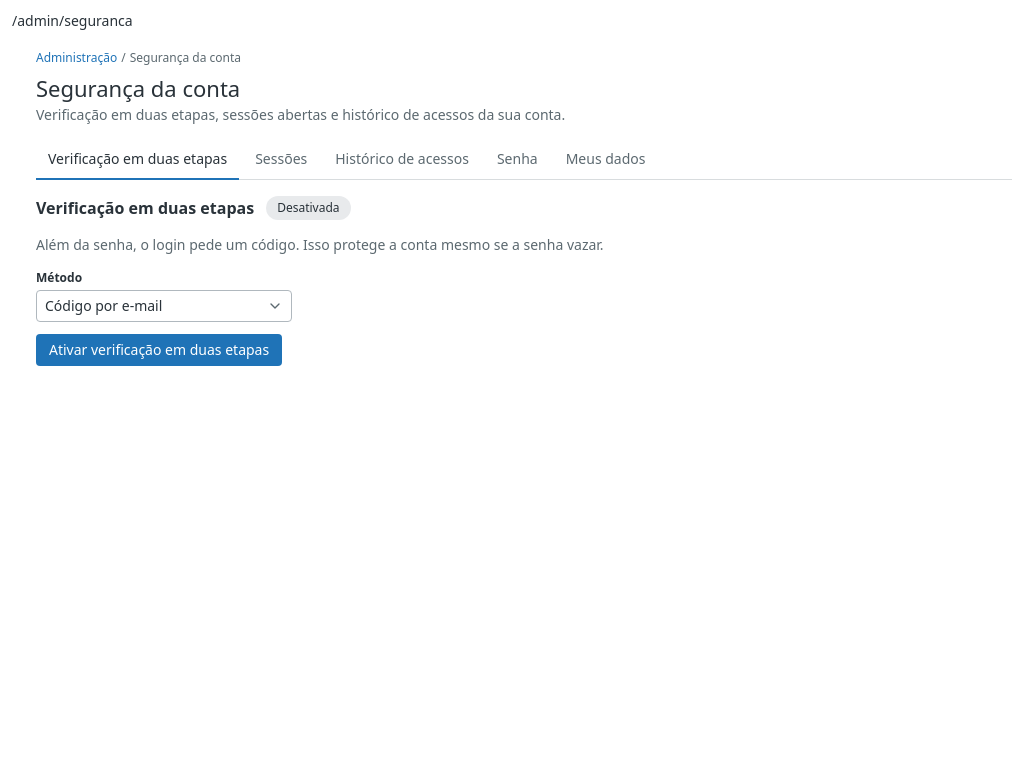
Scenario: Segurança: verificação em duas etapas (fetch simulado = mock em memória) › aplicativo autenticador mostra a chave de configuração
This screenshot has width=1036, height=780.
Click the dropdown named "Método de verificação" at x=164, y=306, box [36,290,292,322]
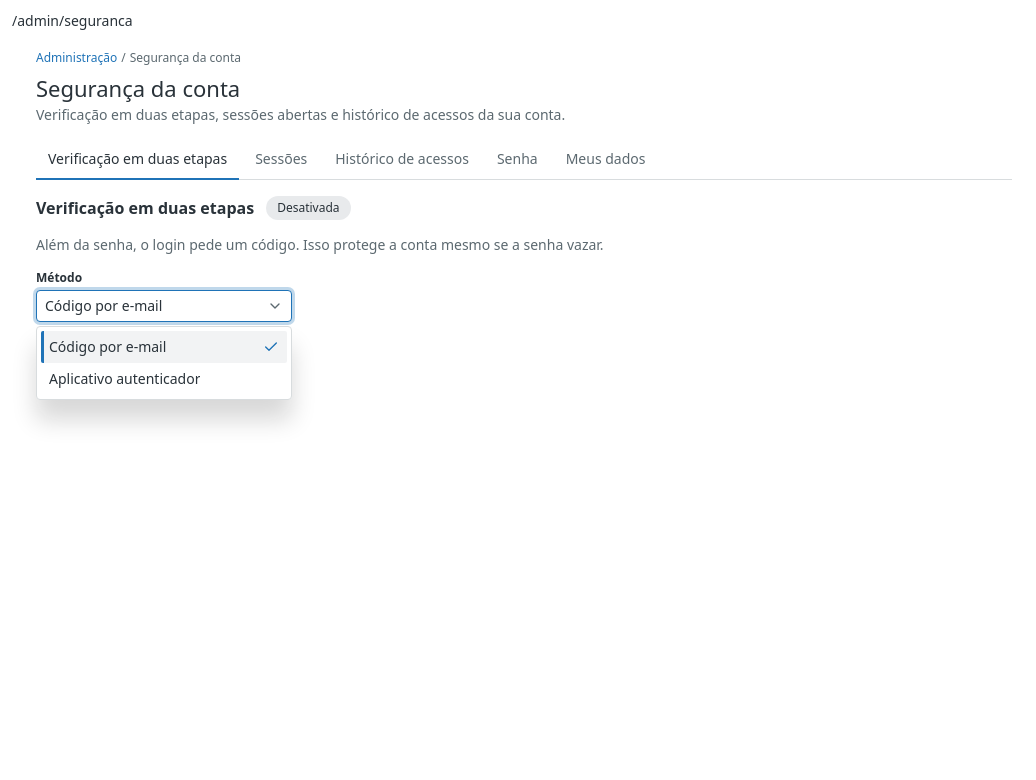
Click the option "Aplicativo autenticador" at x=125, y=378, box [49,369,200,388]
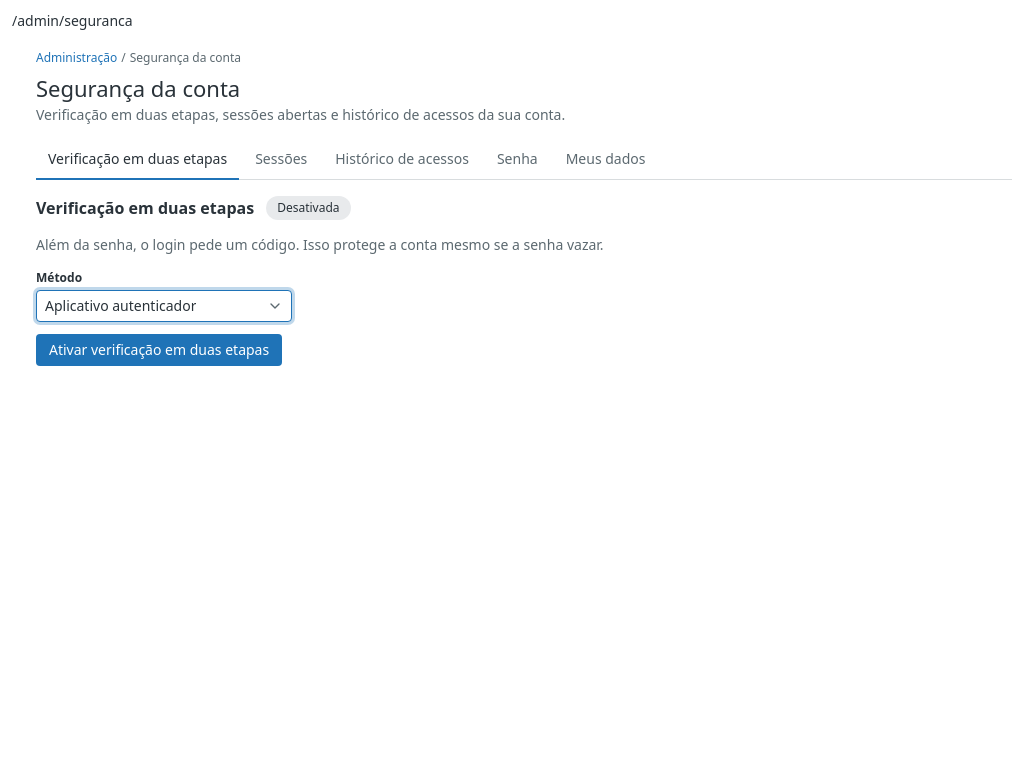
Click the button "Ativar verificação em duas etapas" at x=159, y=350, box [36,334,282,366]
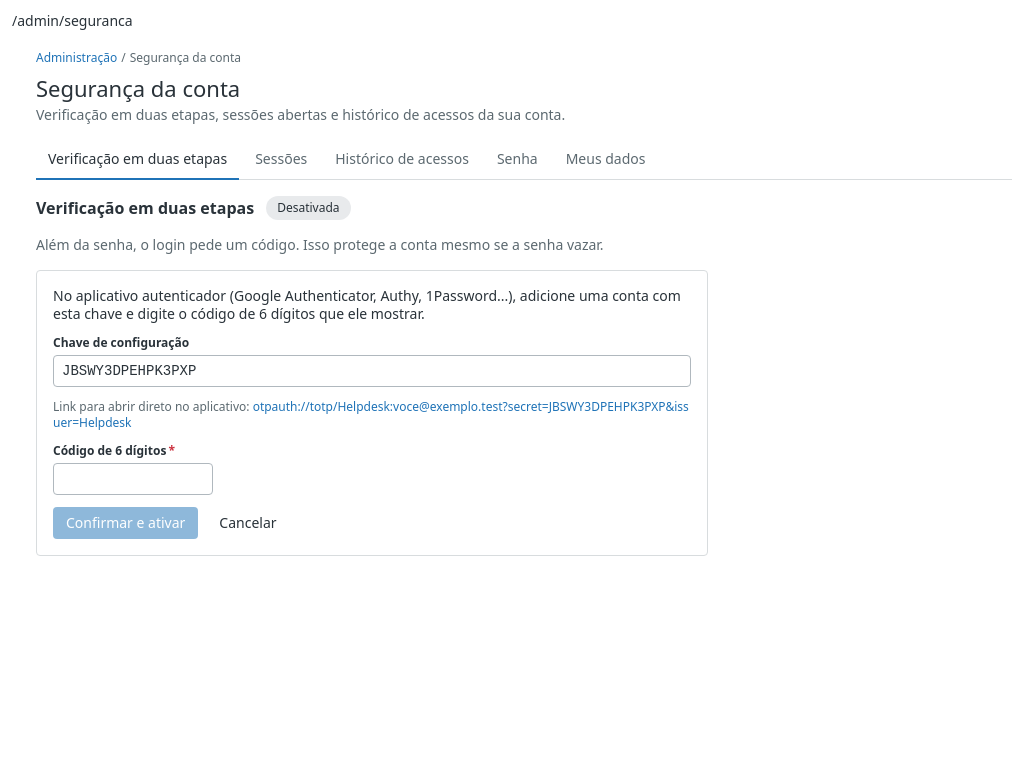
Check: the field named "Chave de configuração do aplicativo" holds "JBSWY3DPEHPK3PXP", box [54,356,690,386]
Click the button "Cancelar" at x=248, y=523, box [206,507,290,539]
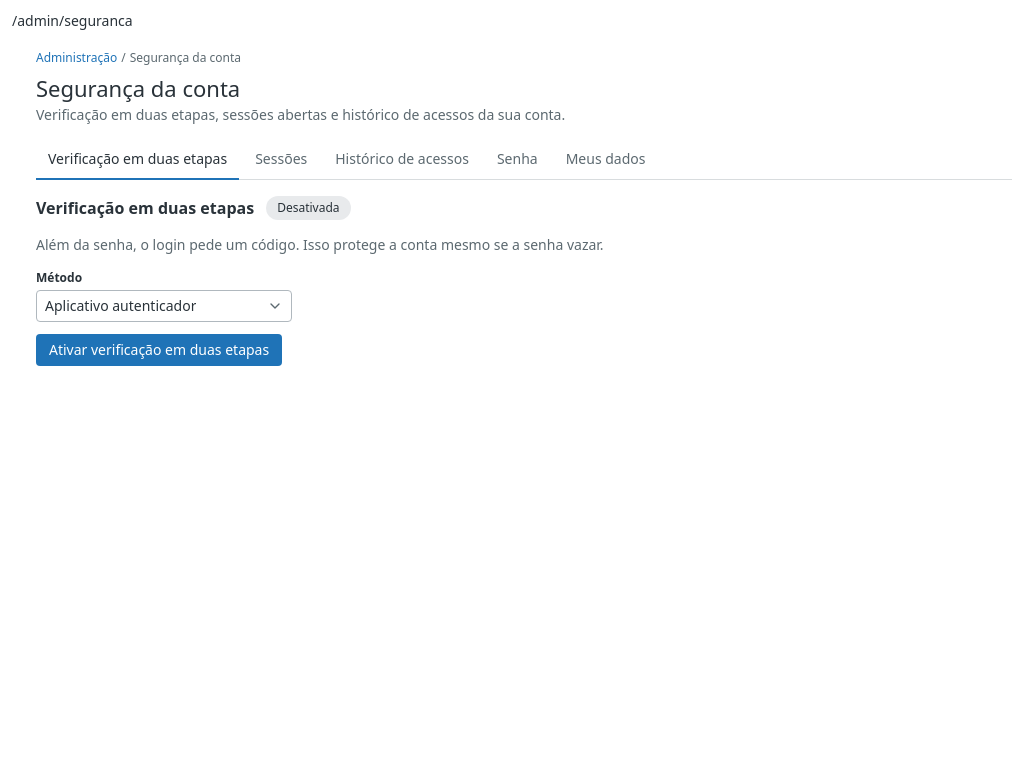
Check: the button "Ativar verificação em duas etapas" is shown, box [36,334,282,366]
